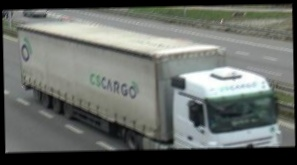truck: (17, 16, 280, 152)
